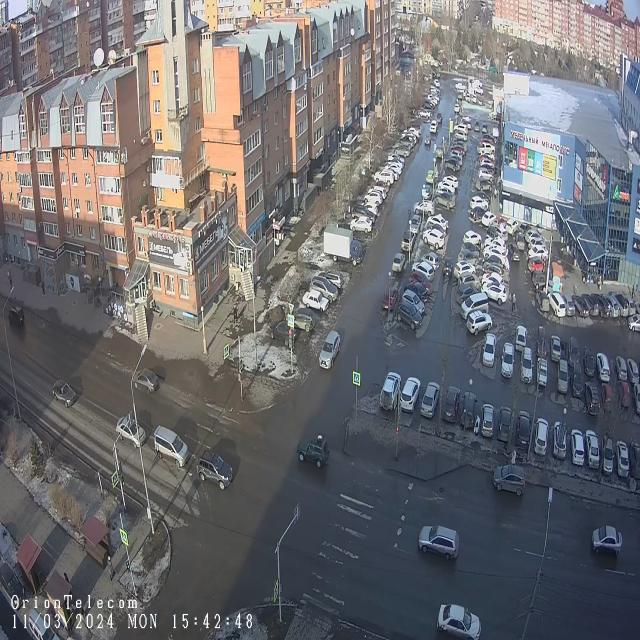car: (418, 521, 460, 563), (436, 602, 482, 640), (323, 225, 363, 267), (153, 425, 190, 469), (196, 449, 233, 491), (490, 458, 526, 498), (1, 562, 27, 611), (295, 432, 330, 468), (589, 524, 623, 561), (28, 607, 61, 640), (115, 415, 146, 449), (460, 291, 490, 324), (418, 380, 442, 420), (319, 329, 341, 371), (380, 371, 401, 414), (399, 376, 422, 414), (309, 276, 339, 305), (582, 426, 600, 472), (396, 300, 422, 331), (52, 377, 77, 409), (441, 384, 461, 424), (132, 367, 160, 395), (269, 319, 297, 347), (466, 308, 494, 336), (408, 270, 434, 300), (614, 435, 630, 482), (314, 268, 344, 293), (460, 390, 478, 431), (552, 418, 568, 462), (289, 307, 316, 333), (402, 288, 425, 317), (599, 433, 614, 477), (482, 280, 507, 306), (302, 289, 329, 313), (570, 426, 585, 468), (411, 259, 435, 285), (496, 404, 512, 443), (456, 284, 482, 308), (517, 408, 531, 452), (534, 416, 549, 456), (569, 360, 584, 400), (453, 259, 477, 284), (584, 380, 601, 415), (520, 345, 534, 387), (627, 438, 640, 482), (500, 341, 515, 379), (408, 278, 428, 306), (481, 399, 494, 442), (612, 289, 630, 320), (481, 332, 496, 369), (547, 291, 566, 320), (558, 288, 576, 318), (582, 342, 596, 380), (571, 292, 590, 320), (422, 228, 446, 250), (566, 334, 580, 371), (483, 244, 506, 266), (599, 378, 613, 414), (456, 248, 480, 269), (592, 292, 610, 320), (382, 282, 399, 311), (625, 355, 640, 387), (514, 321, 528, 355), (349, 216, 374, 235), (428, 212, 448, 235), (458, 272, 481, 292), (603, 293, 620, 320), (616, 377, 630, 409), (583, 291, 599, 319), (598, 349, 610, 386), (7, 302, 24, 328), (550, 330, 562, 366), (536, 355, 548, 390), (532, 270, 553, 290), (482, 272, 504, 290), (422, 249, 439, 272), (459, 242, 482, 259), (484, 237, 507, 254), (558, 358, 568, 396), (622, 291, 636, 318), (535, 287, 549, 313), (401, 229, 416, 253), (615, 354, 627, 384), (462, 230, 482, 248), (527, 258, 549, 274), (482, 263, 504, 279), (491, 222, 508, 242), (392, 250, 406, 274), (527, 246, 549, 261), (470, 195, 489, 212), (442, 254, 454, 278), (470, 206, 488, 222), (408, 213, 421, 235), (508, 240, 520, 263), (481, 211, 497, 228), (505, 218, 519, 236), (515, 228, 525, 252)
